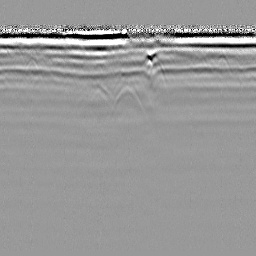cavity: (107, 83, 149, 119)
